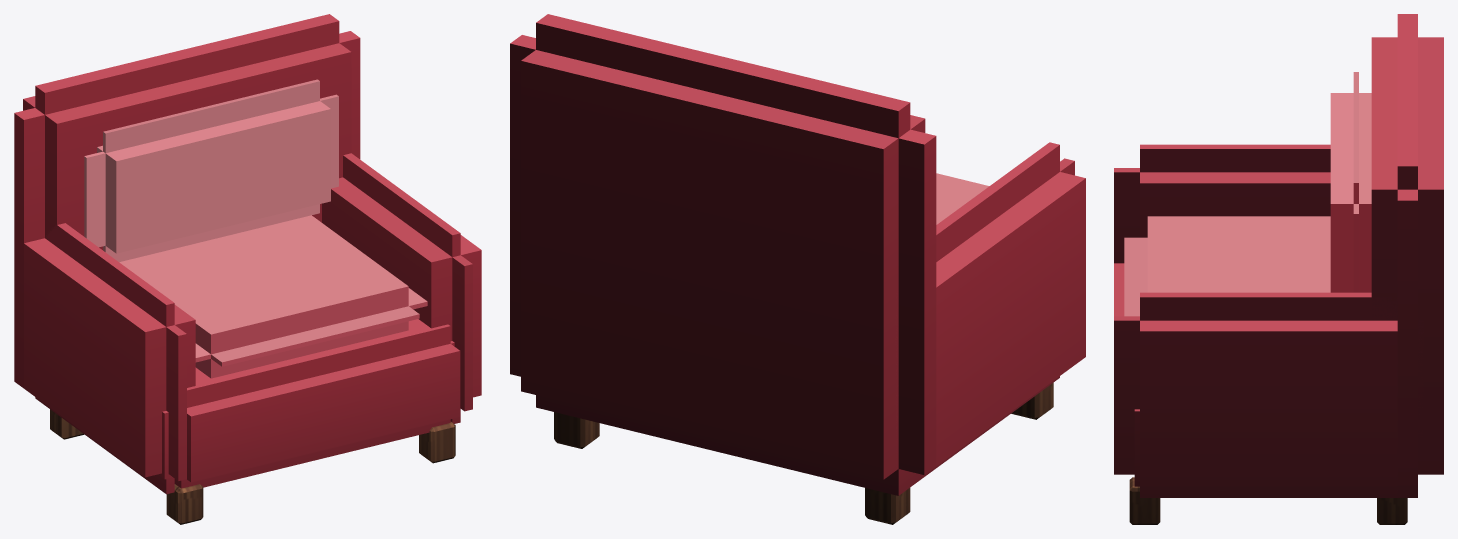
File: armchair.glb
The picture shows the model from 3 angles, left to right: view 1: azimuth 30°, elevation 25°; view 2: azimuth 150°, elevation 25°; view 3: azimuth 270°, elevation 25°; orthographic projection. The views are drawn at different scales.
Parts seen in each view (by area): view 1: armchair; view 2: armchair; view 3: armchair.
Part boxes in pixels (box(x1,y1,x2,y2)): armchair: box(14, 14, 481, 524); armchair: box(510, 14, 1085, 524); armchair: box(1114, 14, 1443, 524).
Bounding box in the file's own units: 0.8 × 0.782 × 0.64.
3 materials, 3 textured.
